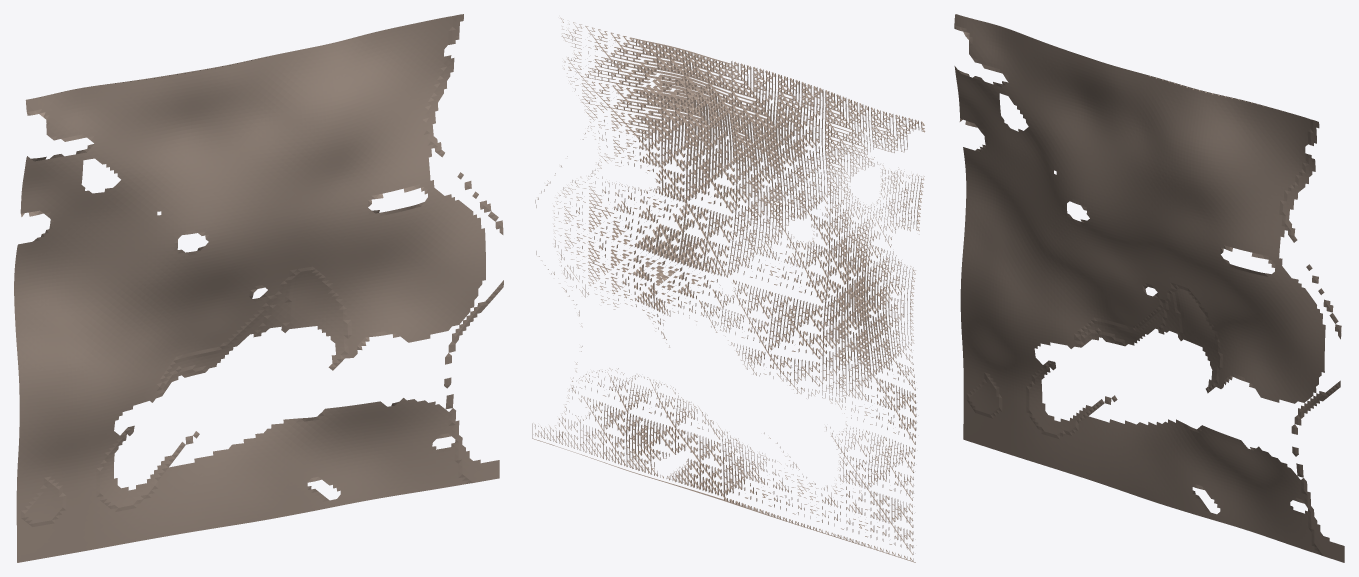
3 renders of one model, left to right at view 1: azimuth 30°, elevation 25°; view 2: azimuth 150°, elevation 25°; view 3: azimuth 330°, elevation 25°, orthographic. The views are drawn at different scales.
Visible parts, largest first — view 1: world; view 2: world; view 3: world.
Part boxes in pixels (<box>): world: <box>14,14,503,562</box>; world: <box>532,17,925,562</box>; world: <box>954,14,1344,562</box>.
Size of the model in its own units: 12800 by 12800 by 2055.
